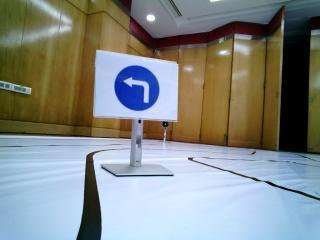left: (95, 52, 181, 119)
